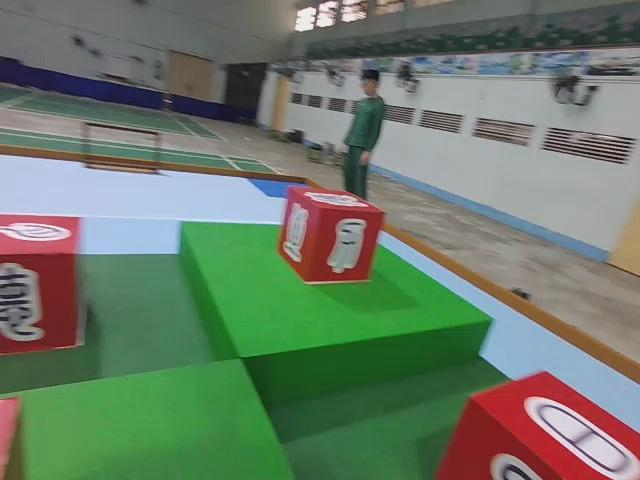R2 Fake: (435, 372, 640, 480), (0, 214, 80, 355), (279, 186, 386, 284)
